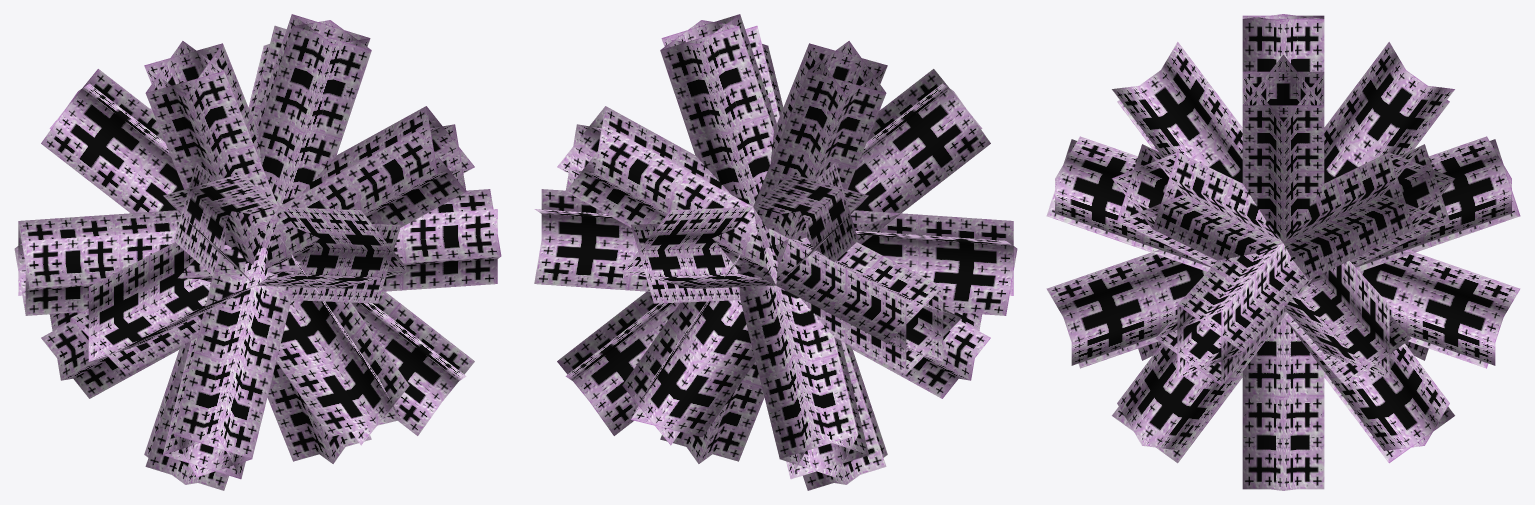
The model's file is StarGreatDodecahemicosacron11.gltf.
3 views of the same model, side by side, from view 1: azimuth 30°, elevation 25°; view 2: azimuth 150°, elevation 25°; view 3: azimuth 270°, elevation 25° (orthographic).
Parts seen in each view (by area): view 1: StarGreatDodecahemicosacron; view 2: StarGreatDodecahemicosacron; view 3: StarGreatDodecahemicosacron.
Boxes of the visible parts, <box> form: StarGreatDodecahemicosacron: <box>14,14,501,490</box>; StarGreatDodecahemicosacron: <box>534,14,1017,490</box>; StarGreatDodecahemicosacron: <box>1046,14,1520,490</box>.
Size of the model in its own units: 10.06 by 10.06 by 10.06.
Materials: 1 (1 with a texture image).
